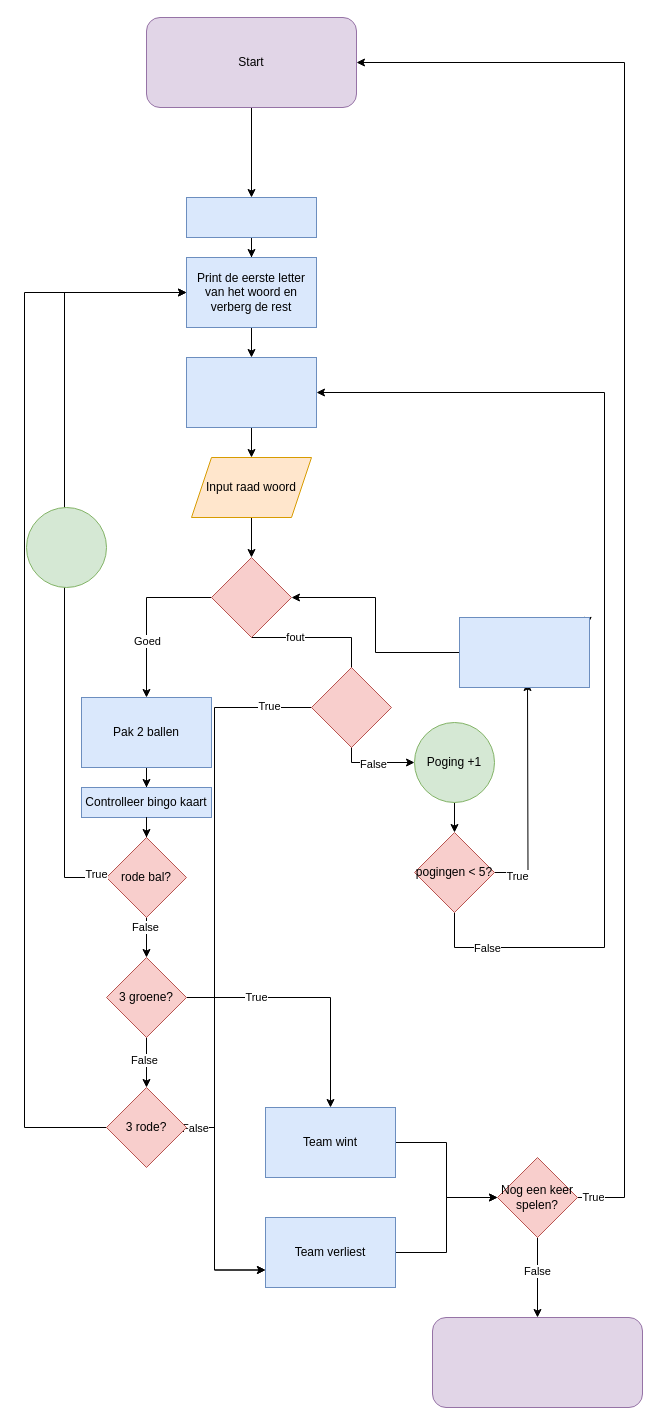
The diagram is 660 pixels wide and 1425 high, and some of its shapes have lost their labels. The shapes that lost their labels are listed below. From the top down, each one's centre as x and y in pixels, then its label:
At [251,217]: "Kies een willekeurig woord uit de woorden lijst".
At [251,392]: "verwissel team, Start ronde zet pogingen op 0".
At [66,547]: "Rode bal +1".
At [251,597]: "Goed of fout?".
At [524,652]: "Check of letters in het woord zit en geef dat aan".
At [351,707]: "3 fouten?".
At [537,1362]: "Eind".
